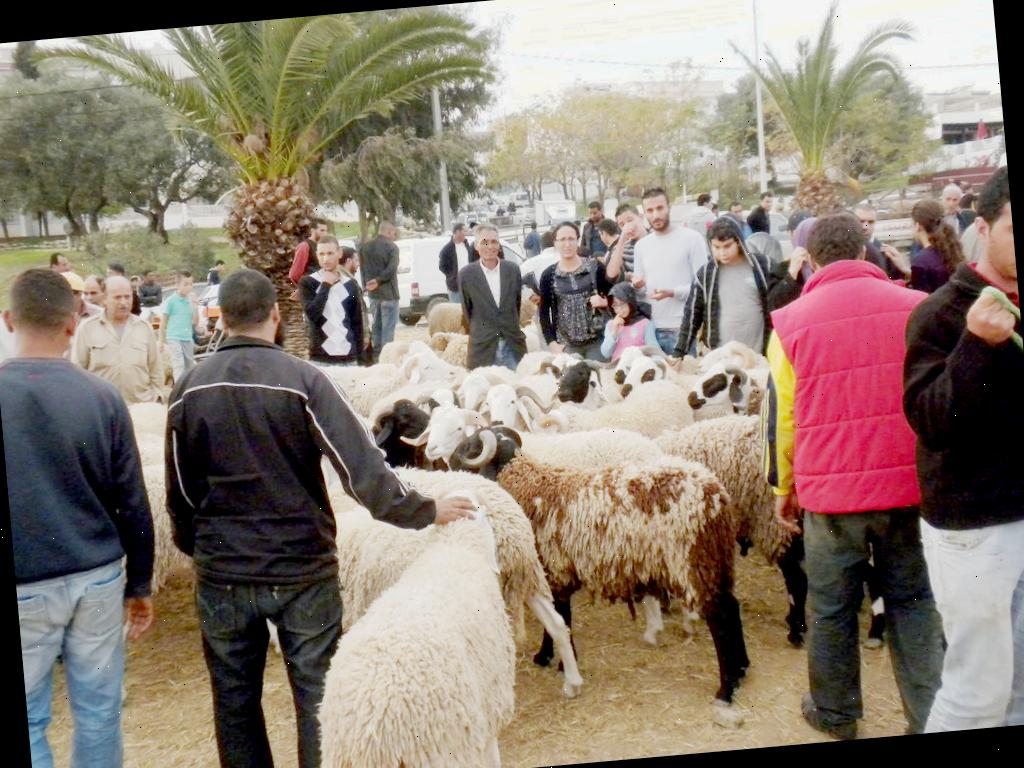Sheep: (447, 406, 753, 728), (297, 482, 546, 768), (680, 348, 780, 436)
